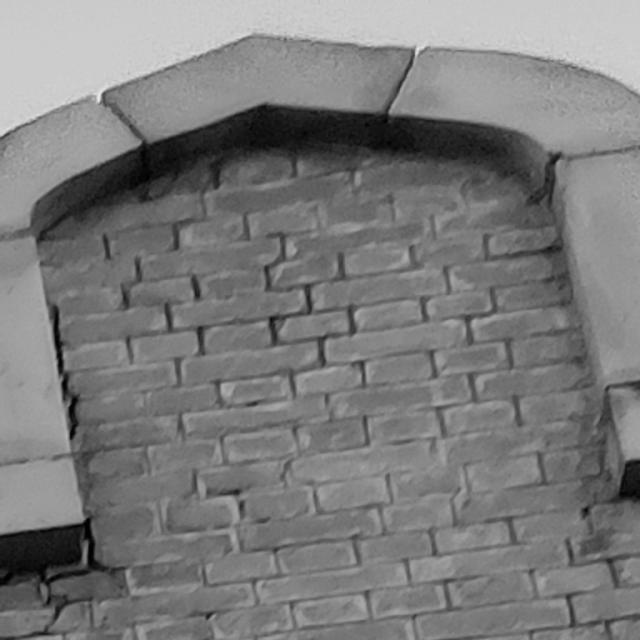crack: (1, 518, 107, 638), (49, 303, 79, 439)
